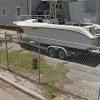Boat: (10, 9, 94, 57)
